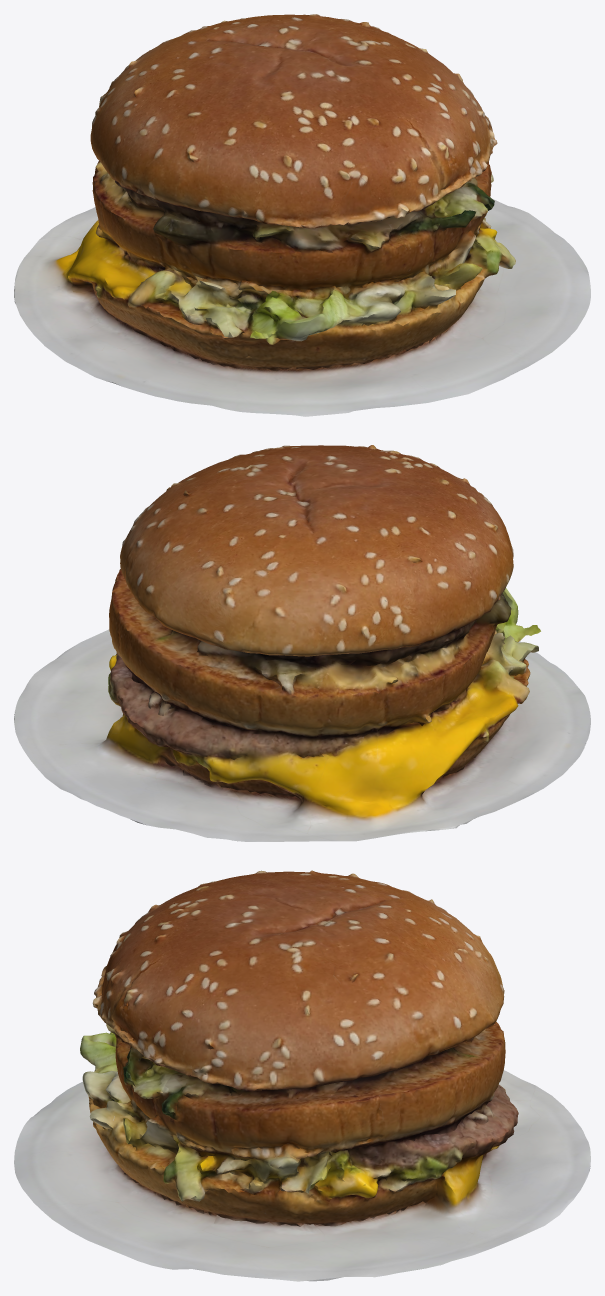
The model's file is cheeseburger.glb.
3 renders of one model, top to bottom at view 1: azimuth 30°, elevation 25°; view 2: azimuth 150°, elevation 25°; view 3: azimuth 270°, elevation 25°, orthographic.
Parts seen in each view (by area): view 1: Object_2; view 2: Object_2; view 3: Object_2.
Part boxes in pixels (x1=…): Object_2: x1=14, y1=14, x2=590, y2=416; Object_2: x1=14, y1=445, x2=590, y2=841; Object_2: x1=14, y1=870, x2=590, y2=1281.
Bounding box in the file's own units: 0.7624 × 0.3582 × 0.763.
Materials: 1 (1 with a texture image).
